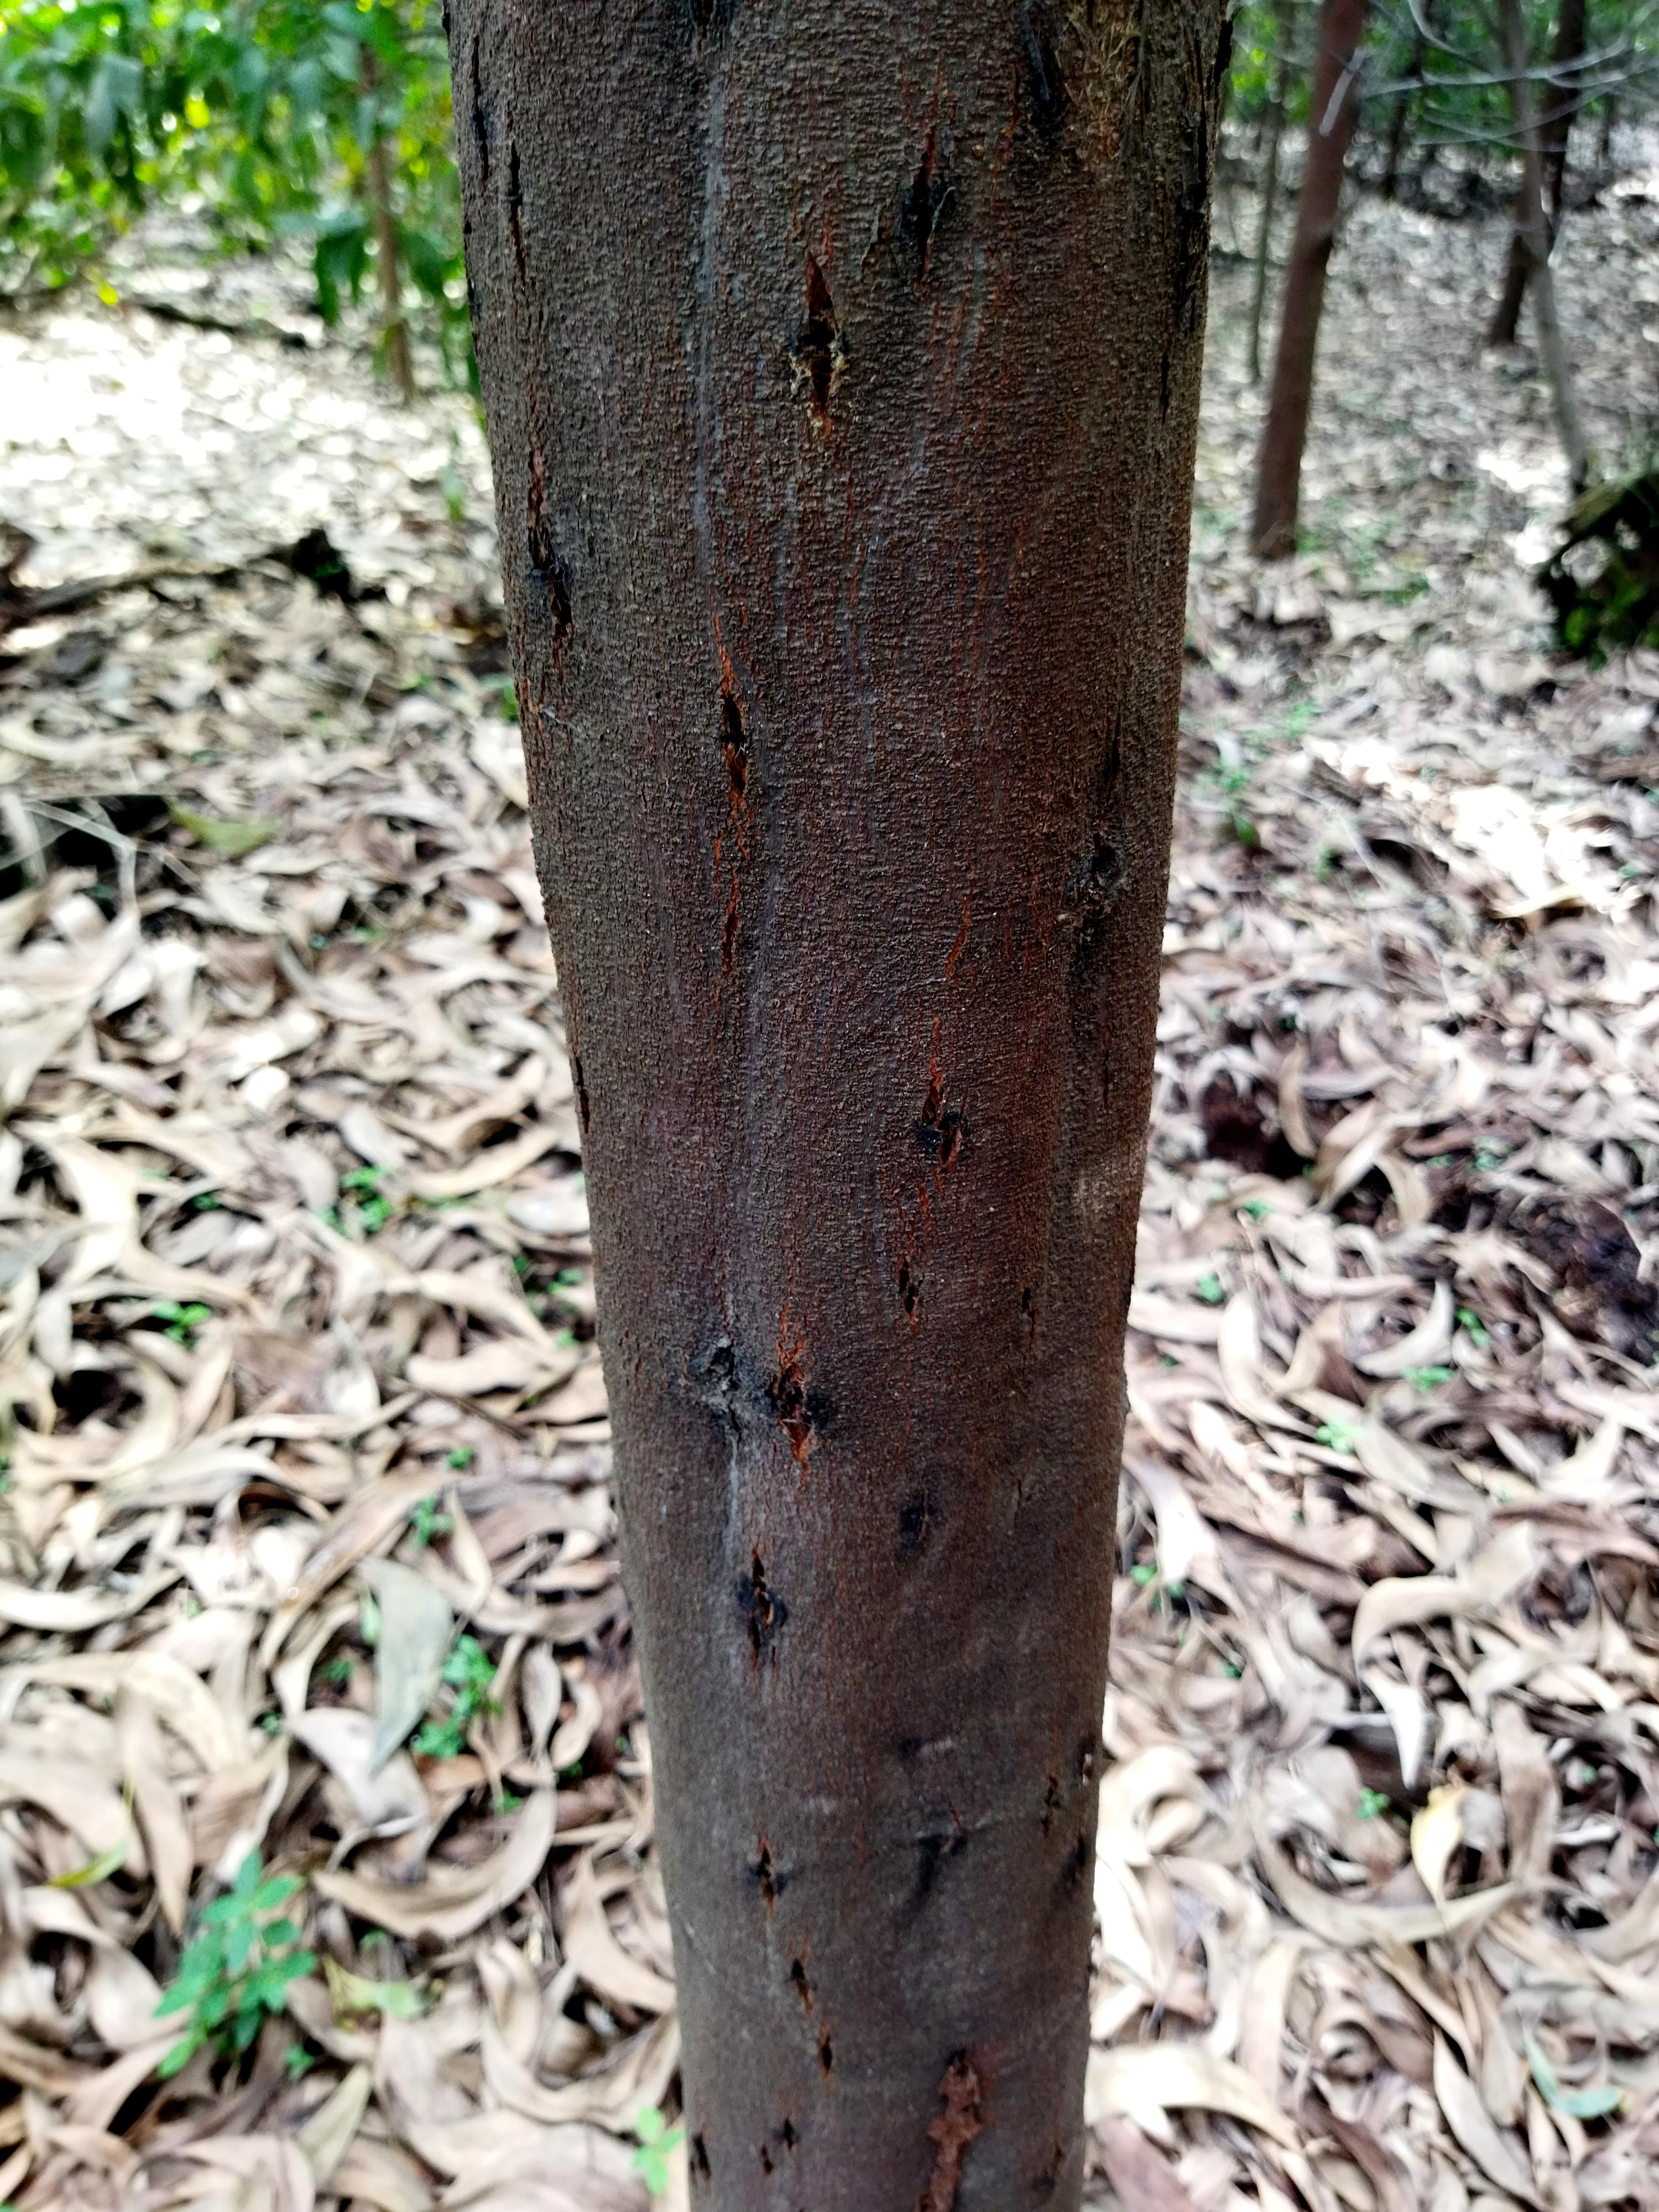Stem Borer: (870, 1705, 1141, 1933), (714, 1820, 864, 2182), (664, 1301, 894, 1477), (958, 7, 1141, 221), (681, 676, 775, 1022), (1040, 775, 1161, 1005), (842, 122, 988, 310), (483, 510, 612, 698), (758, 256, 882, 437), (870, 1467, 997, 1623), (903, 1057, 997, 1217), (714, 1527, 802, 1686)
